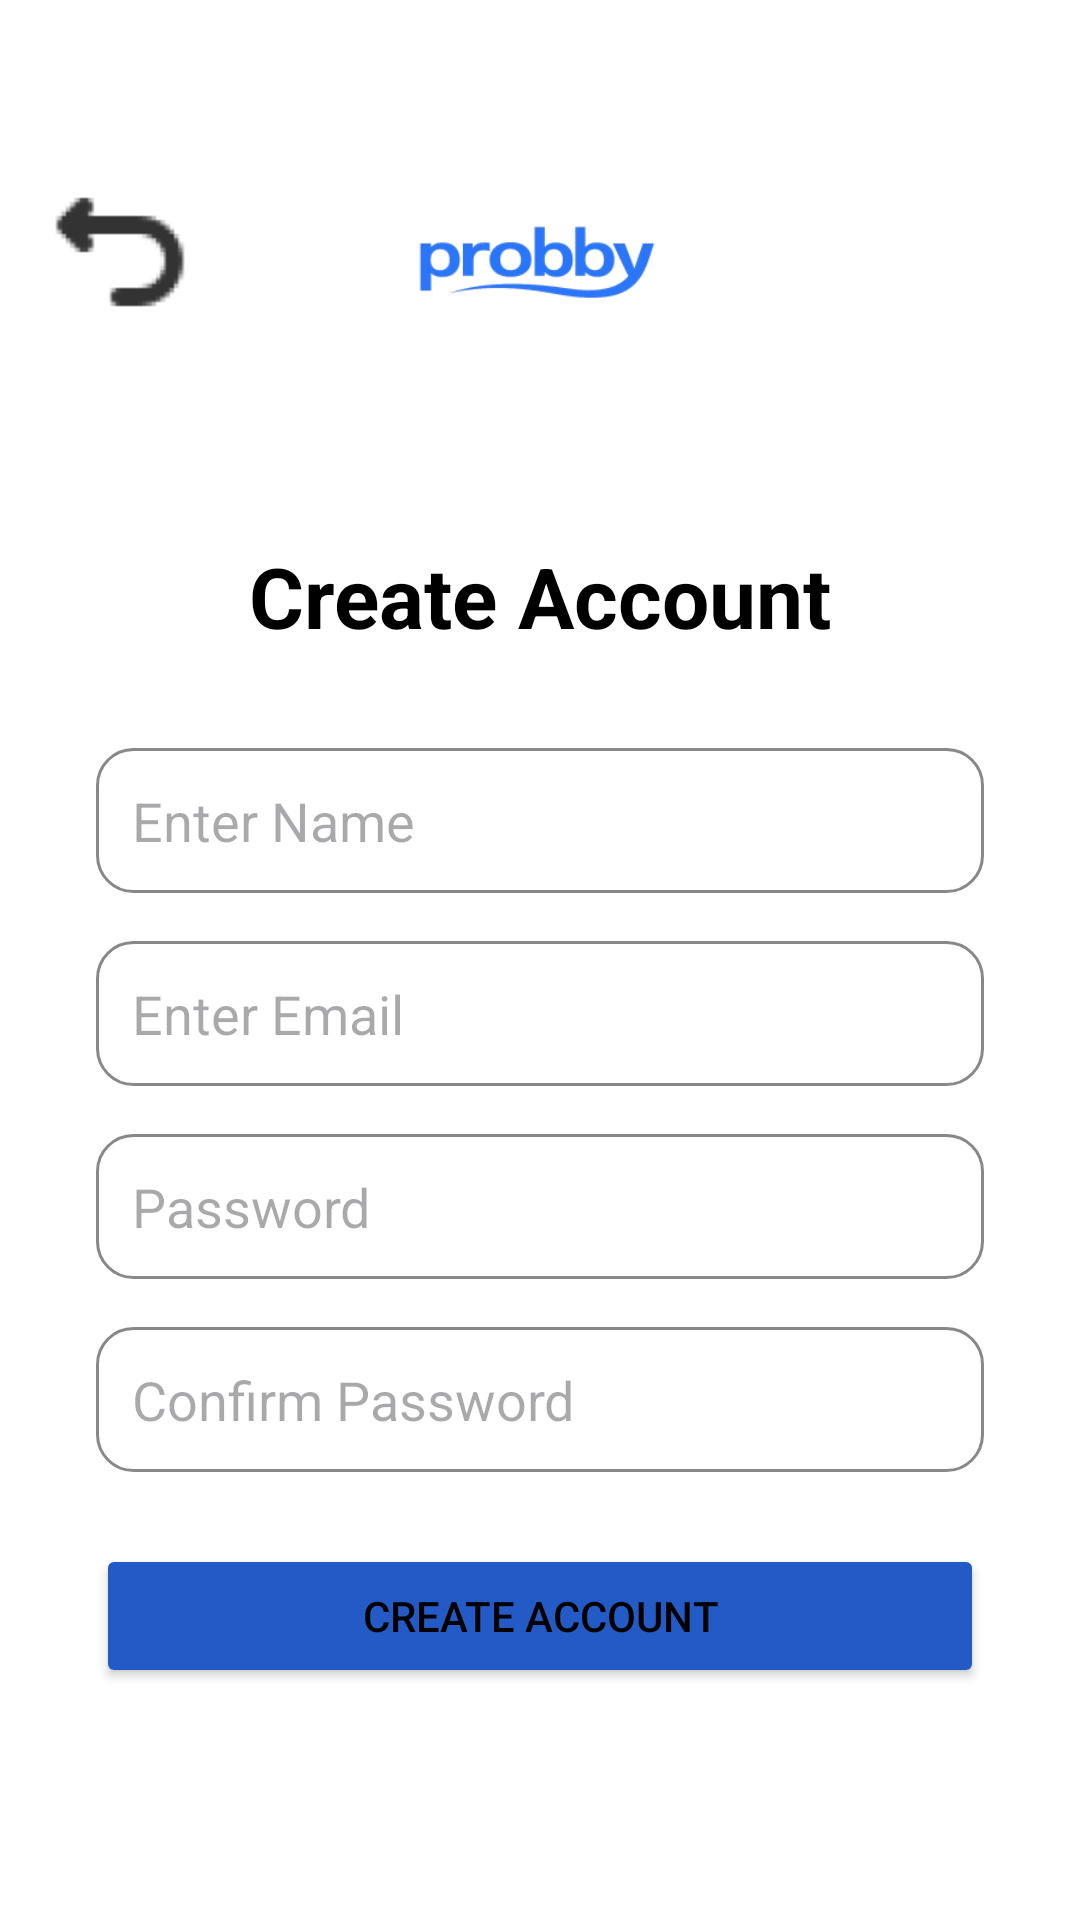

Where to tap for icons on this 1080*1920 app screen, as point (x, y):
back: point (120, 252)
